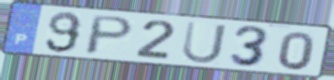0: (274, 29, 317, 72)
2: (134, 19, 179, 62)
3: (227, 25, 272, 69)
9: (44, 10, 83, 55)
P: (82, 14, 137, 56)
U: (180, 20, 229, 65)
